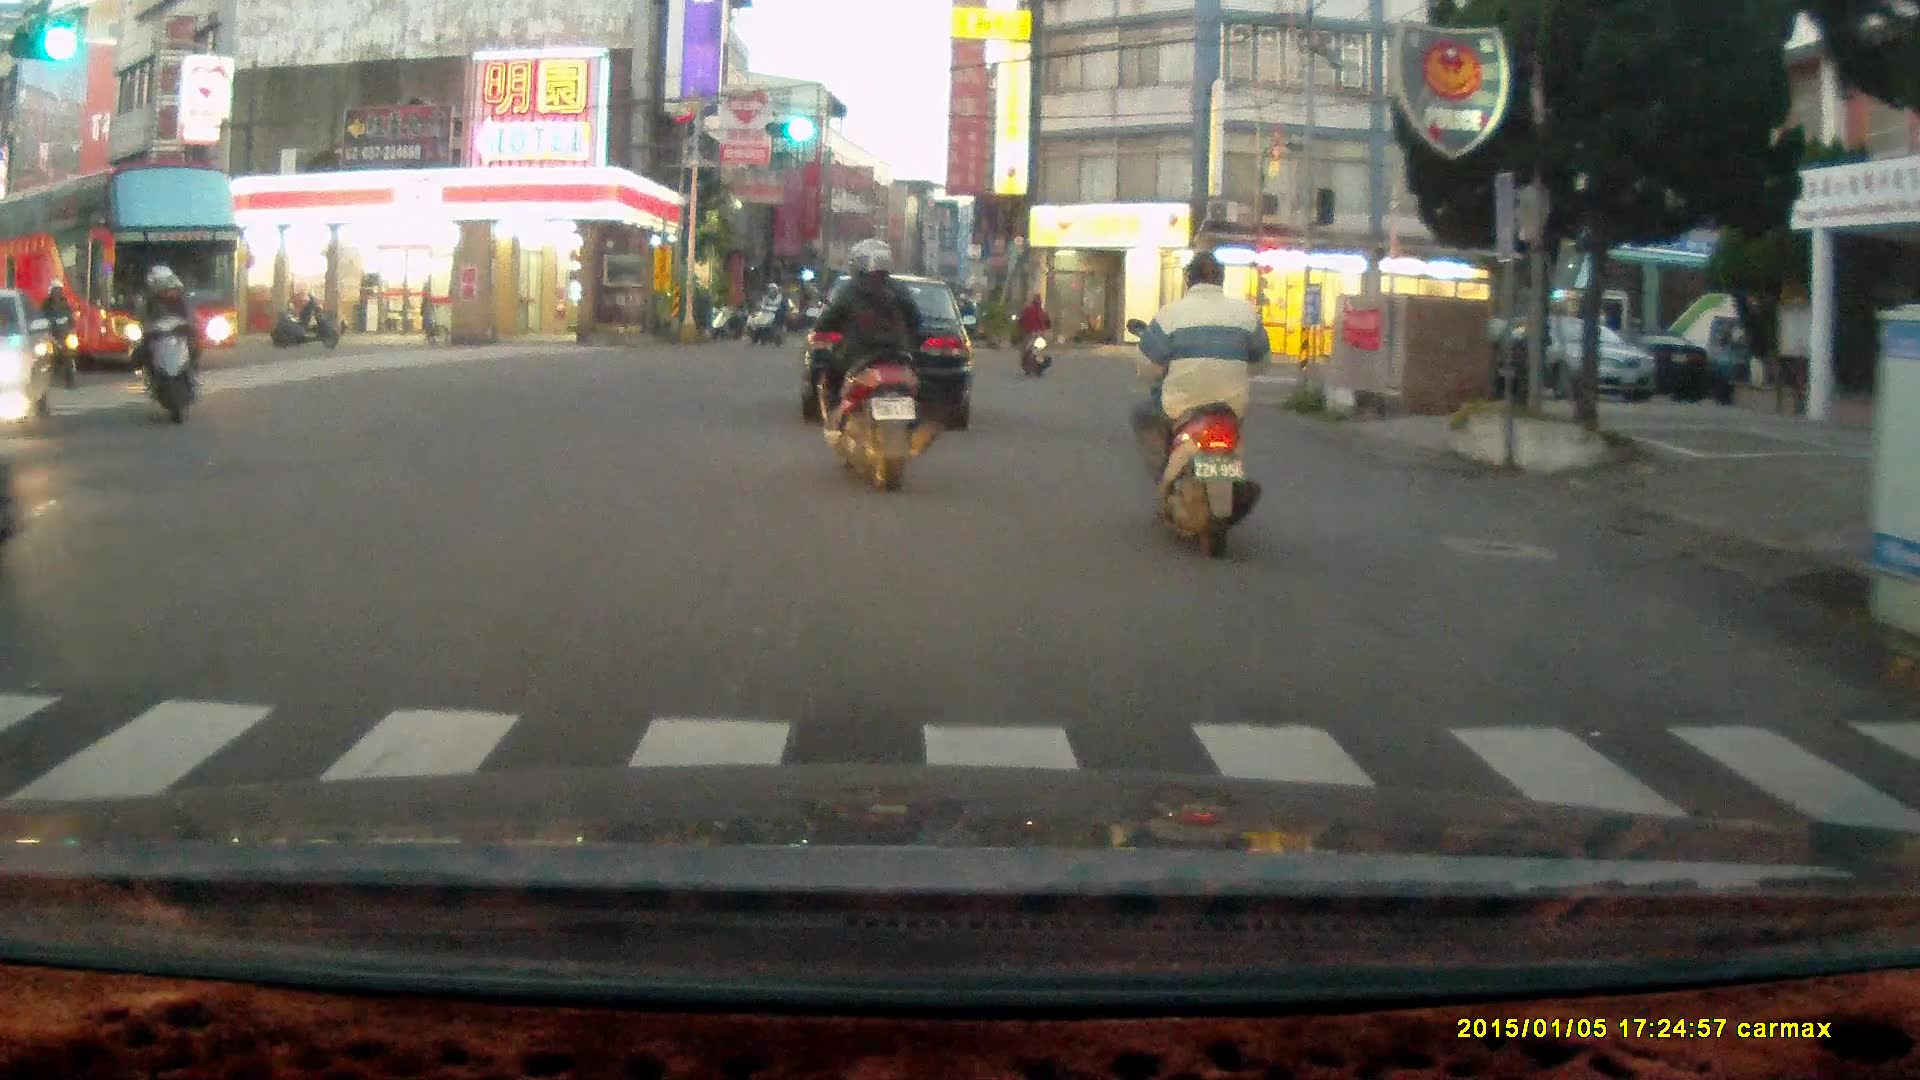rider: (1126, 251, 1267, 560), (804, 232, 943, 498), (128, 262, 199, 426), (36, 279, 82, 385), (1009, 295, 1053, 381), (750, 282, 786, 347)
vehicle: (1, 168, 240, 368), (1451, 313, 1661, 403)
